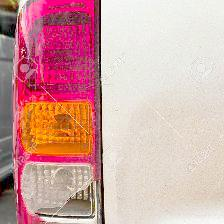tail_lamp: (19, 177, 110, 222)
